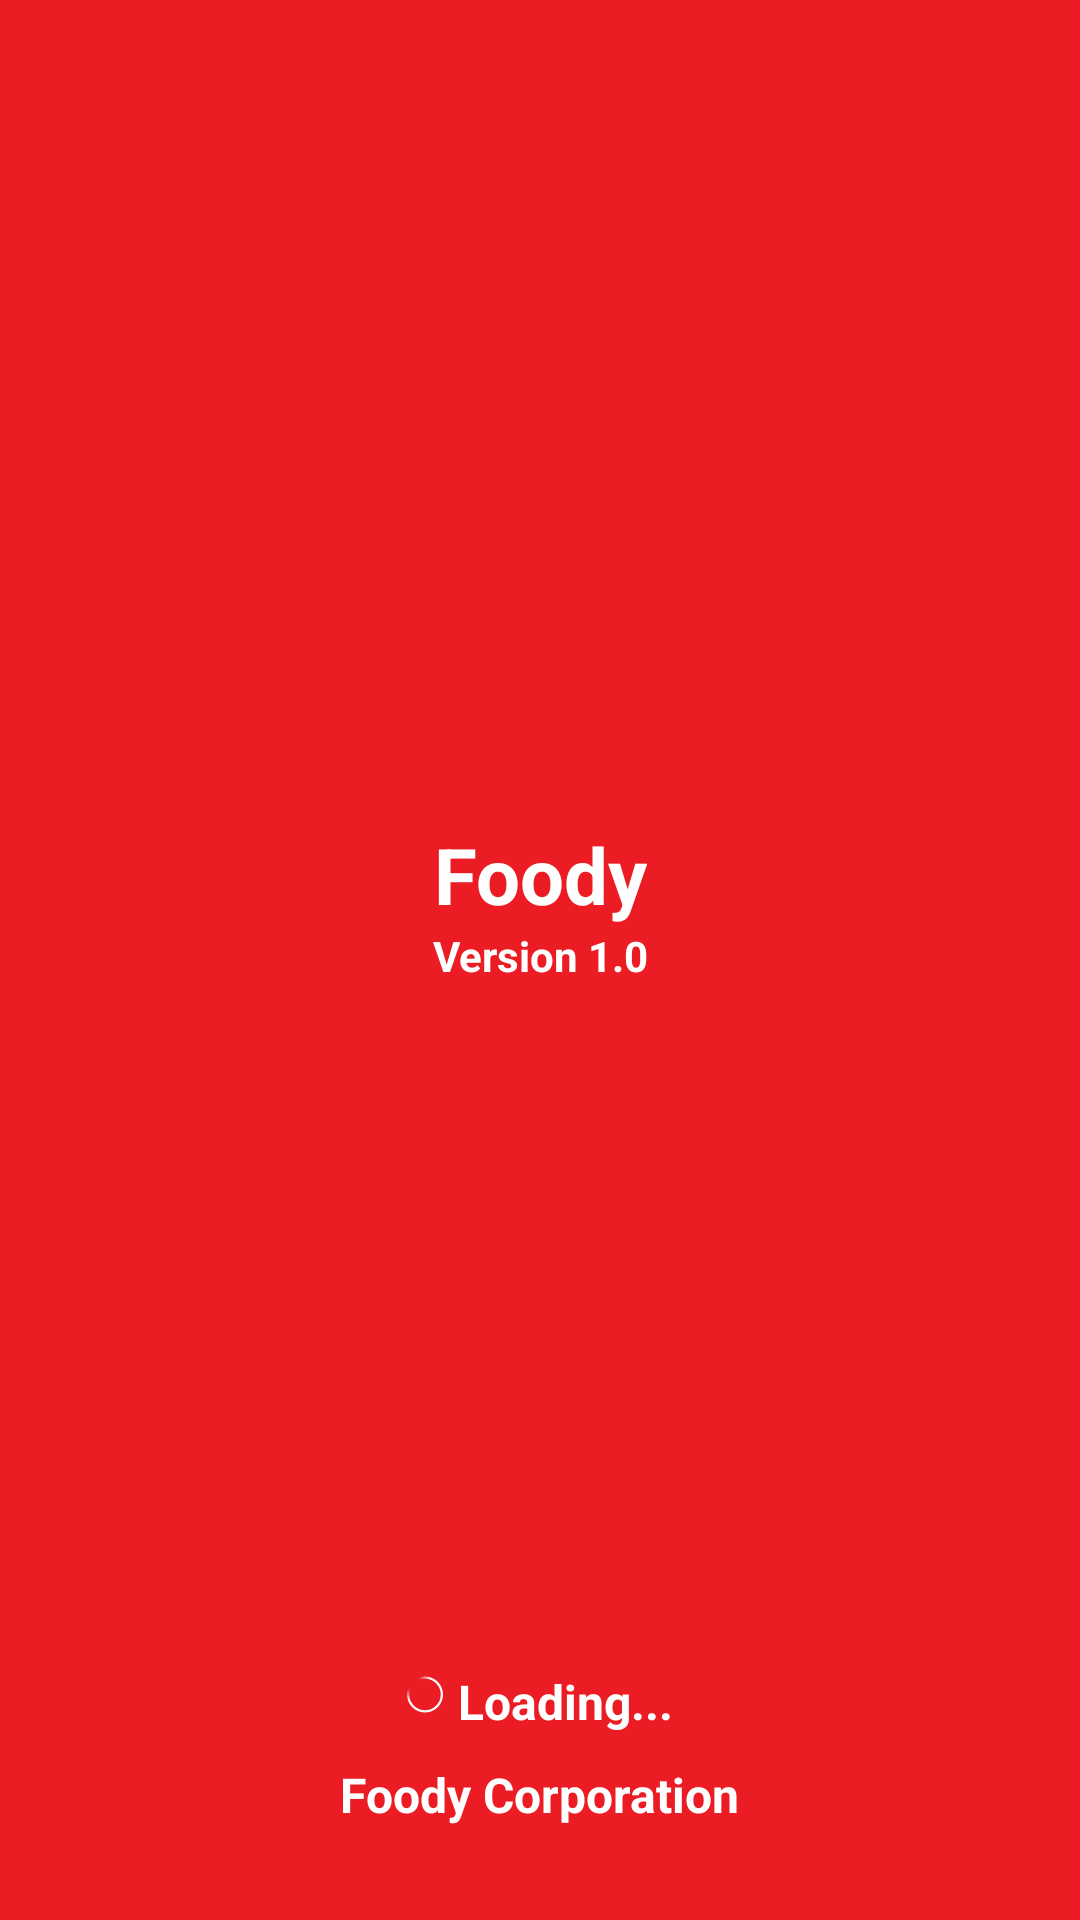

Icons on this 1080px×1920px Android screen, each with the point to tap as [x,y]:
ring: [425,1694]
